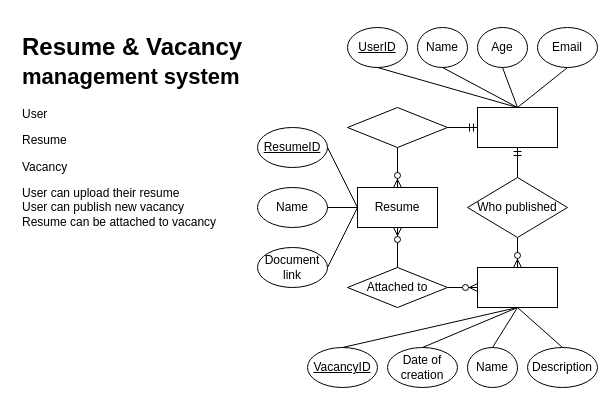
The diagram is 615 pixels wide and 405 high, and some of its shapes have lost their labels. Each missing label, with the centre of its shape:
"User" goes at point 517,127.
"Vacancy" goes at point 517,287.
"Who uploaded" goes at point 397,127.
